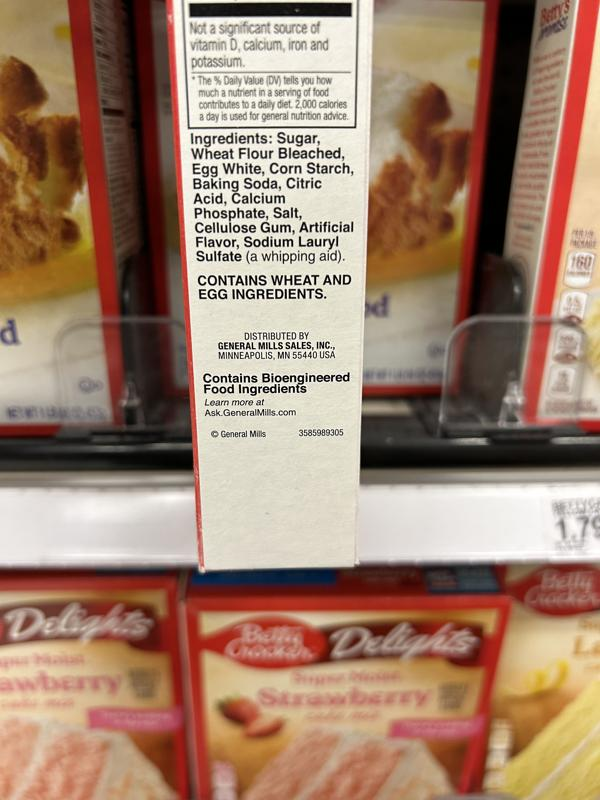ingredients: (189, 131, 358, 266)
